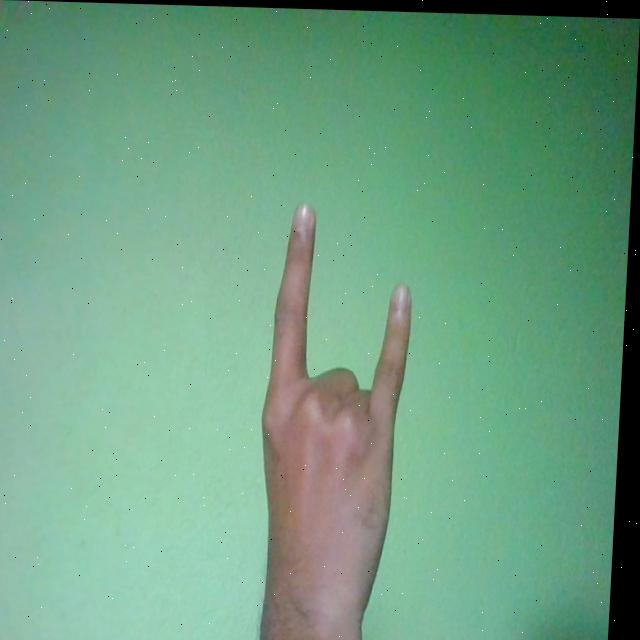Rock On: (255, 199, 419, 640)
